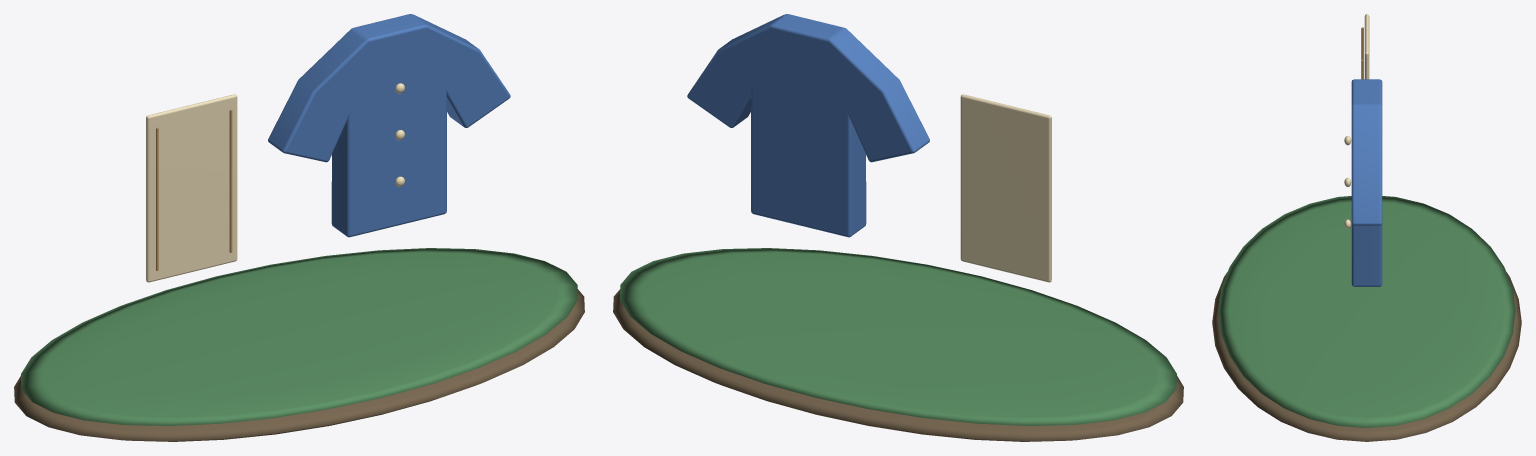
File: lined-shirt.glb
3 views of the same model, side by side, from view 1: azimuth 30°, elevation 25°; view 2: azimuth 150°, elevation 25°; view 3: azimuth 270°, elevation 25° (orthographic). The views are drawn at different scales.
Visible parts, largest first — view 1: lined-shirt_surface_01, lined-shirt_surface_04, lined-shirt_surface_02, lined-shirt_surface_00, lined-shirt_surface_03; view 2: lined-shirt_surface_01, lined-shirt_surface_04, lined-shirt_surface_02, lined-shirt_surface_00; view 3: lined-shirt_surface_01, lined-shirt_surface_04, lined-shirt_surface_00, lined-shirt_surface_02.
Part boxes in pixels (x1,y1,x2,y2): lined-shirt_surface_01: [21, 248, 577, 425]; lined-shirt_surface_04: [268, 14, 510, 237]; lined-shirt_surface_02: [146, 83, 404, 282]; lined-shirt_surface_00: [14, 289, 584, 441]; lined-shirt_surface_03: [156, 109, 232, 270]; lined-shirt_surface_01: [620, 248, 1176, 425]; lined-shirt_surface_04: [687, 14, 929, 237]; lined-shirt_surface_02: [960, 94, 1051, 282]; lined-shirt_surface_00: [613, 289, 1183, 441]; lined-shirt_surface_01: [1218, 196, 1515, 427]; lined-shirt_surface_04: [1351, 79, 1382, 286]; lined-shirt_surface_00: [1212, 272, 1521, 441]; lined-shirt_surface_02: [1344, 14, 1369, 228].
Size of the model in its own units: 4.56 by 2.54 by 2.5.
